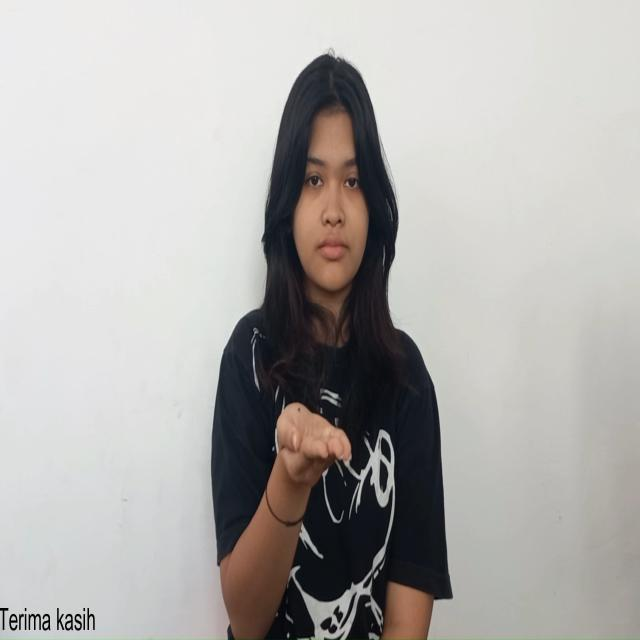Terima kasih -BISINDO-: (273, 395, 355, 495)
